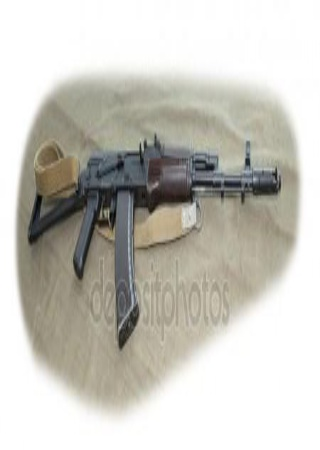rifle: (22, 122, 285, 344)
